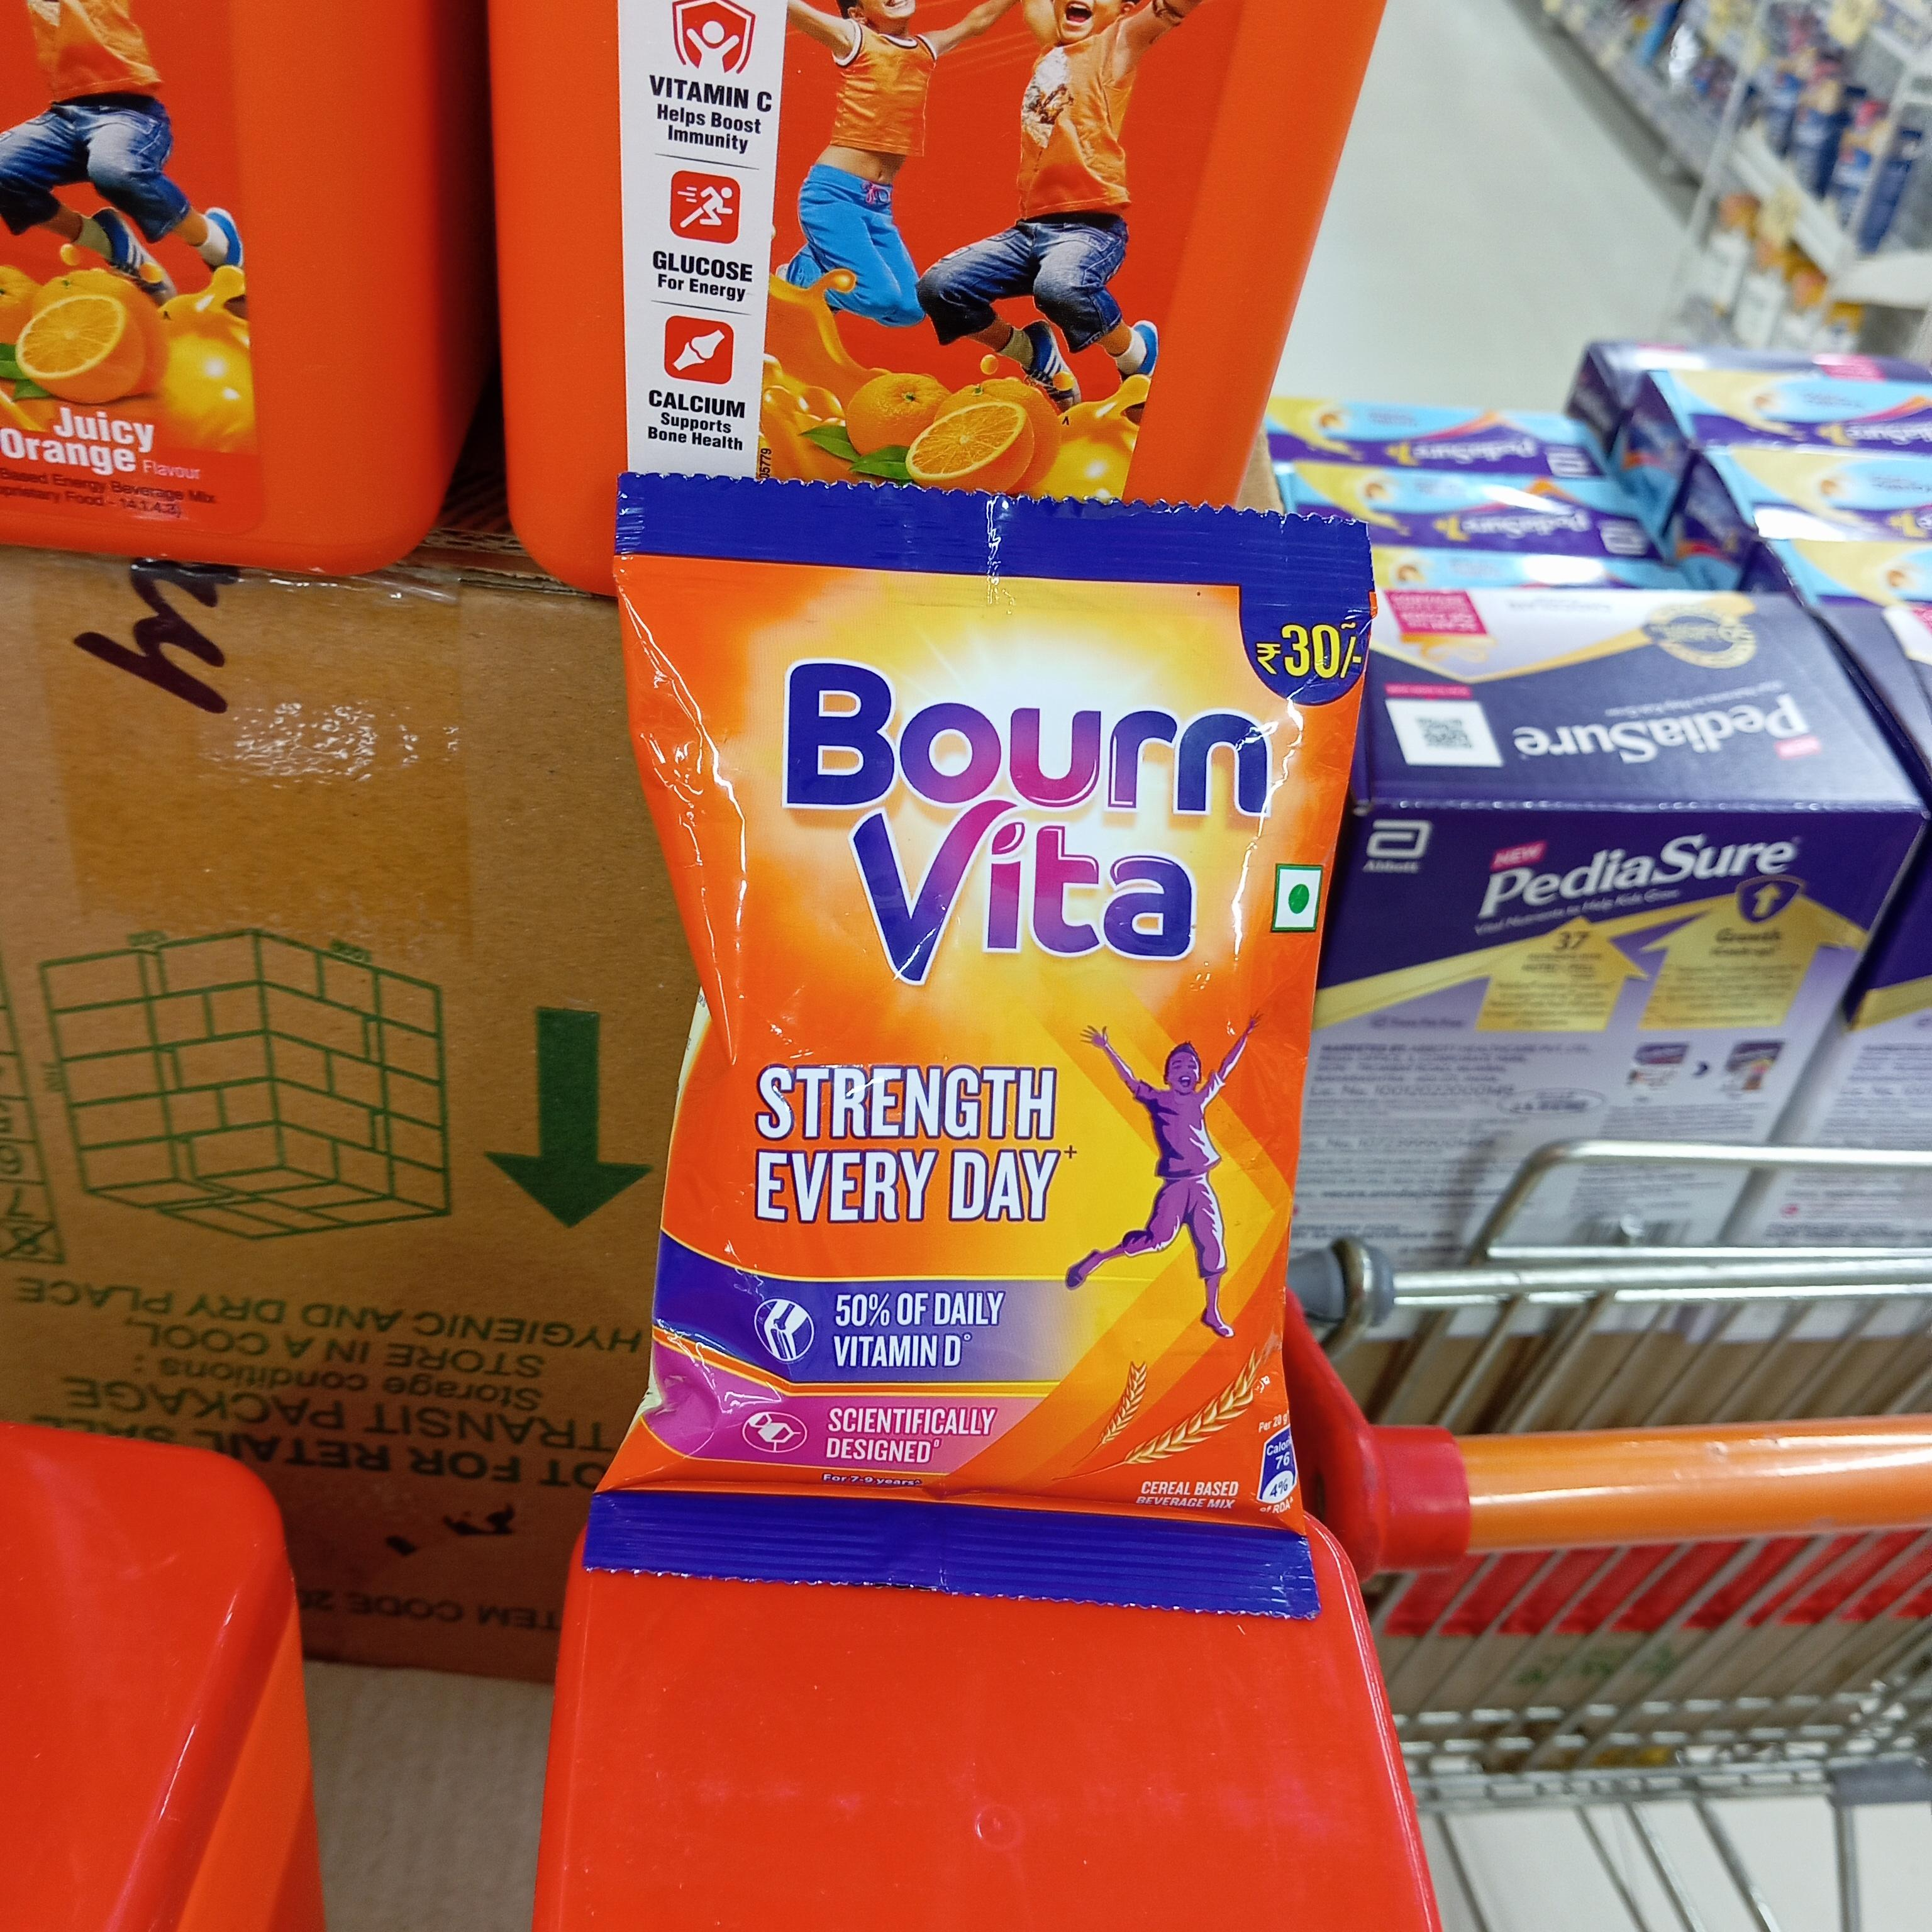BOURN_VITA_75_G_POUCH: (639, 476, 1302, 1608)
